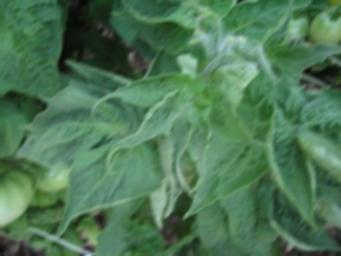Tomato leaf mosaic virus: (51, 127, 163, 234), (180, 103, 272, 217), (106, 87, 186, 170), (93, 71, 197, 113)
